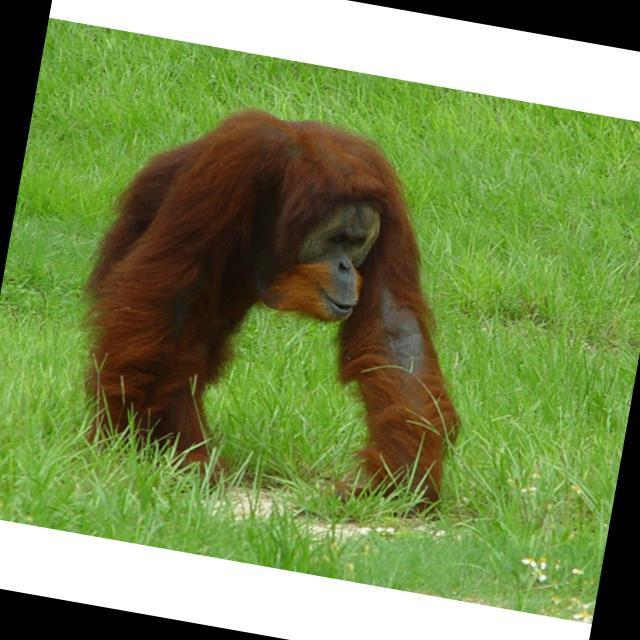Orangutan: (74, 114, 473, 488)
